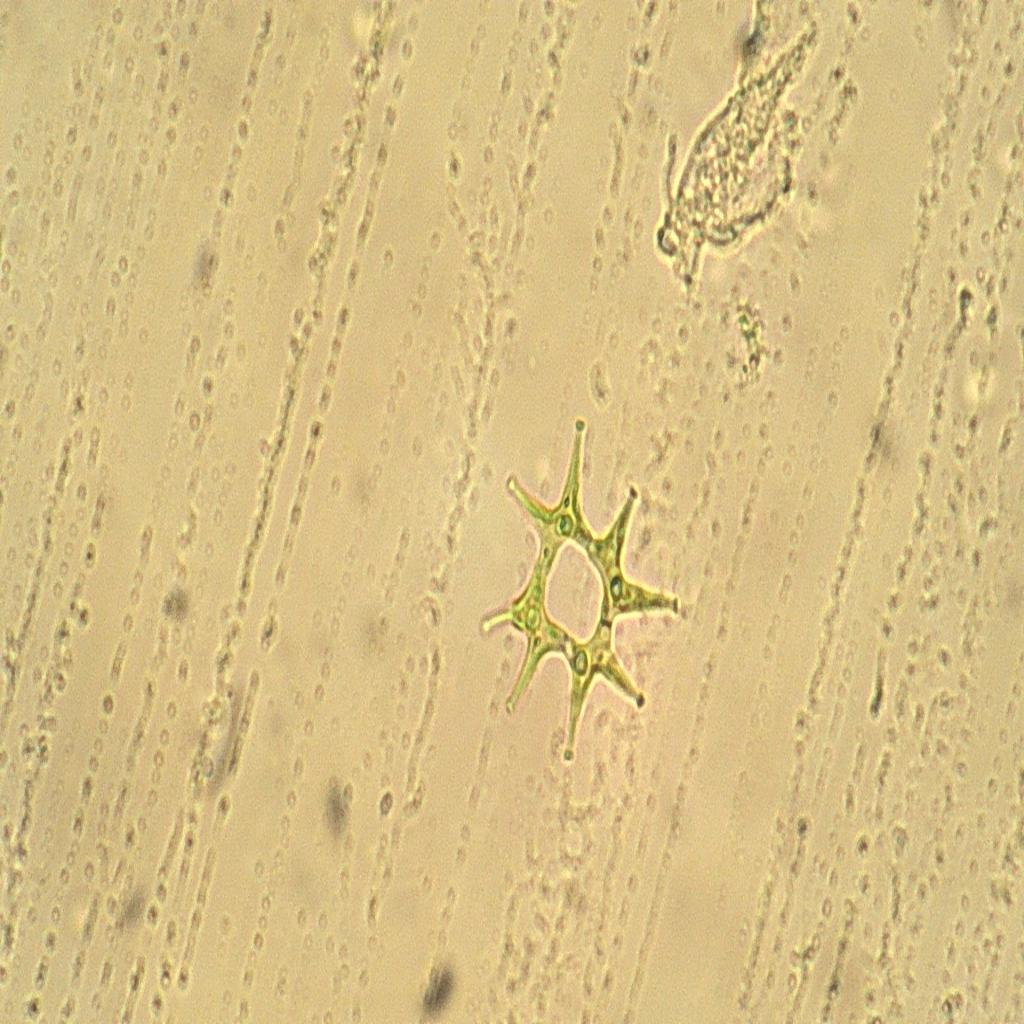Pediastrum_CO: (470, 408, 697, 783)
